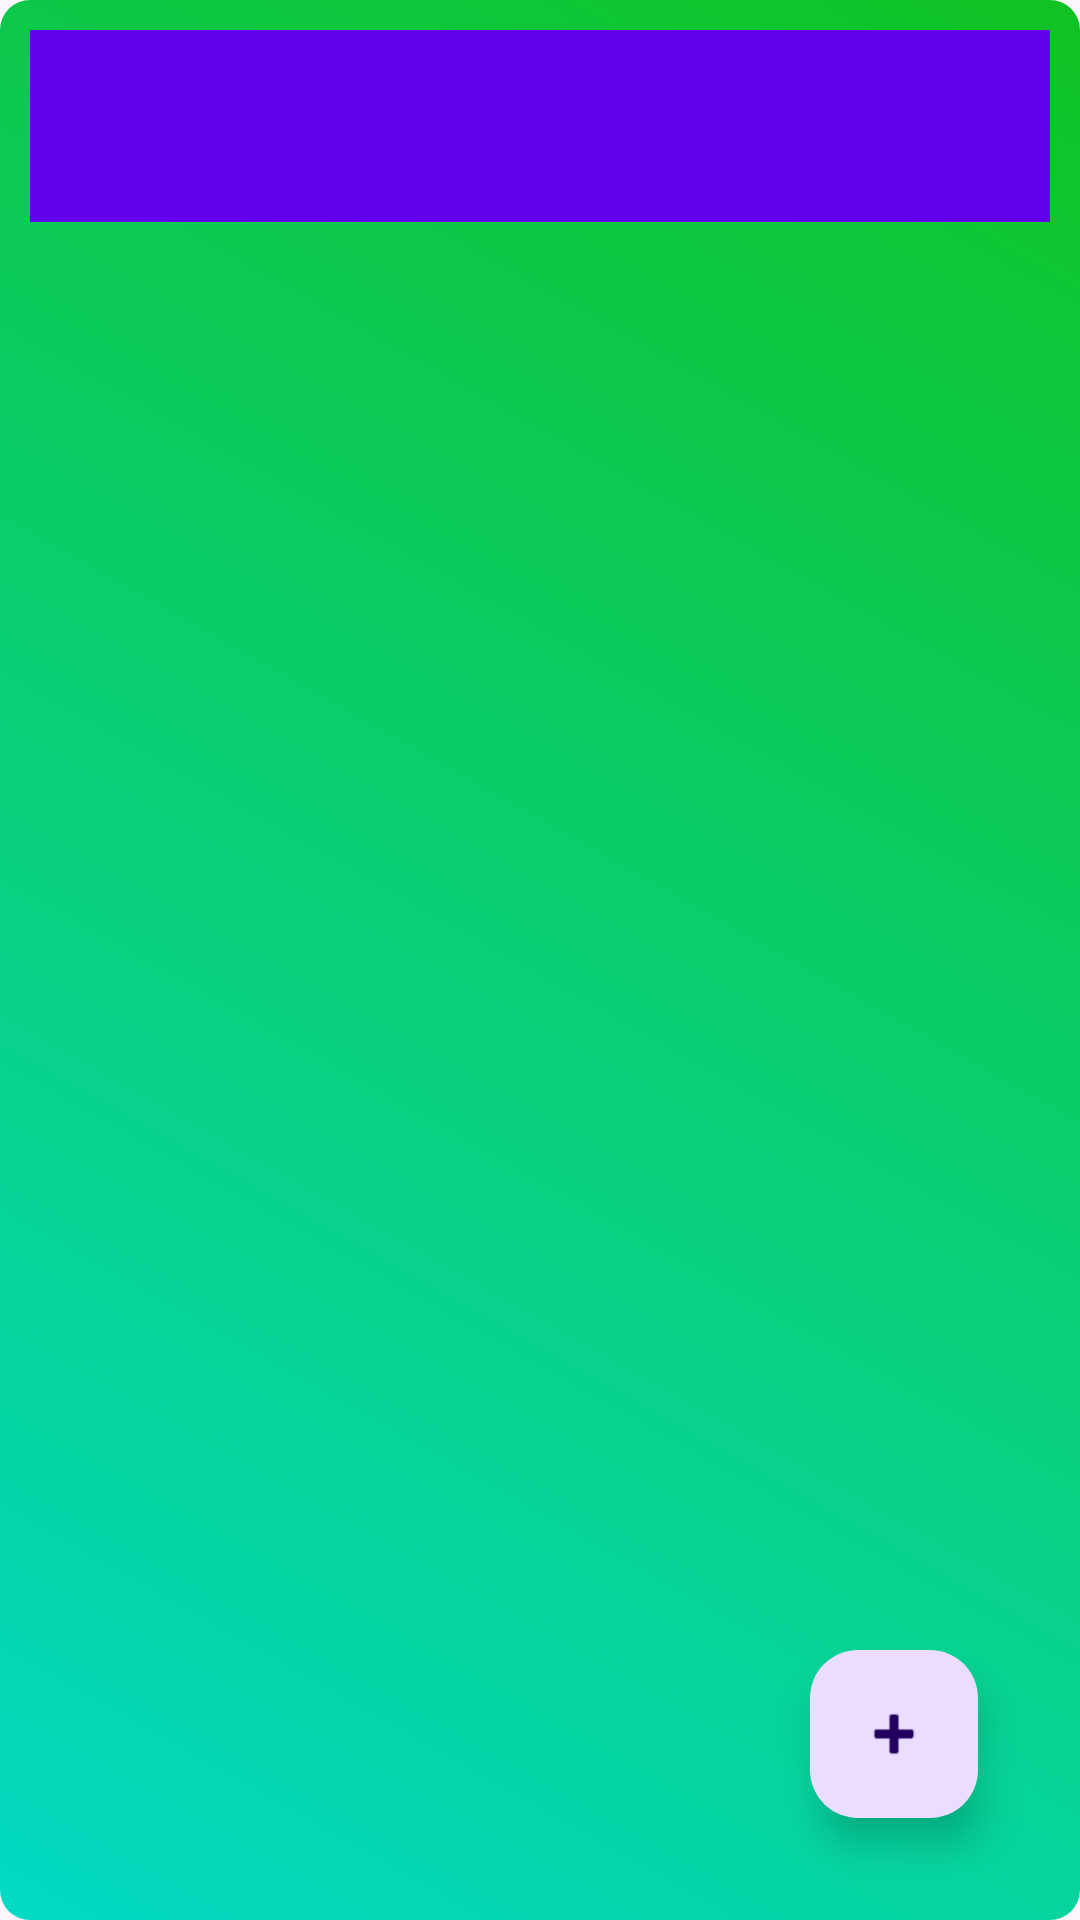

Named icons in this screenshot (1080*1920) and their bounding boxes, bbox(x1, y1, x2, y2):
Add Insurance: bbox(810, 1650, 978, 1818)
